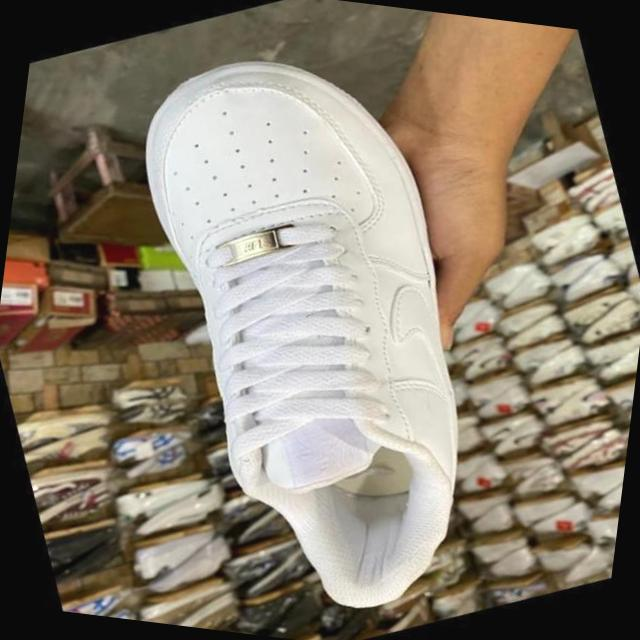nike_fake_airforce: (61, 0, 582, 640)
